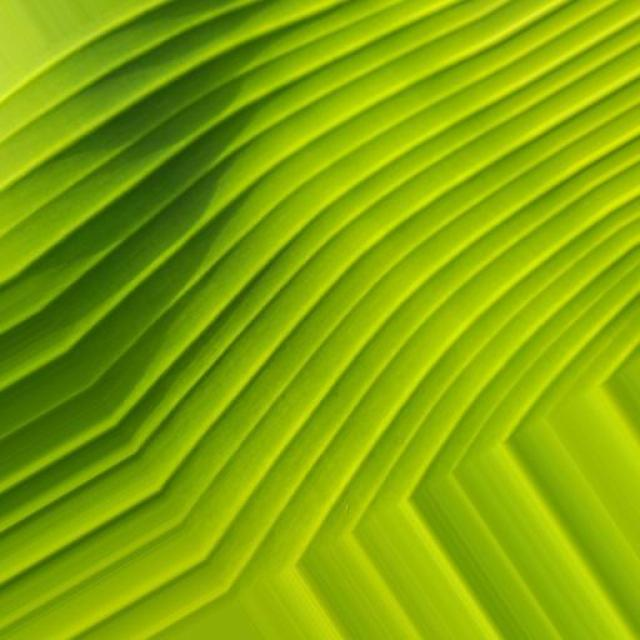Black_leaf_spot: (0, 0, 553, 599)
